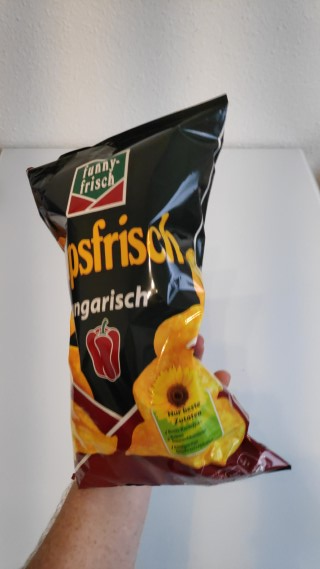chipsfrisch: (26, 93, 293, 491)
